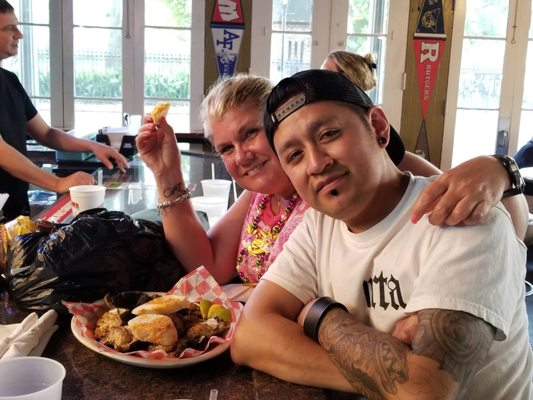pizza: (0, 356, 67, 400), (69, 184, 107, 211)
sushi: (0, 356, 65, 400)
